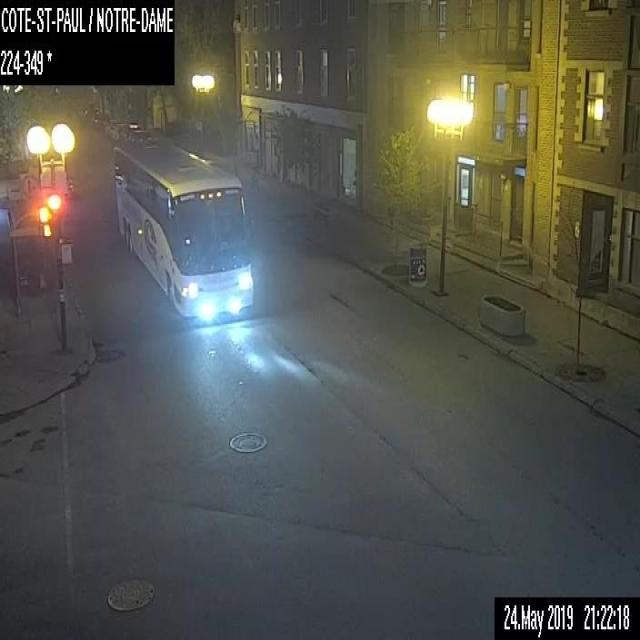bus: (112, 135, 254, 318)
